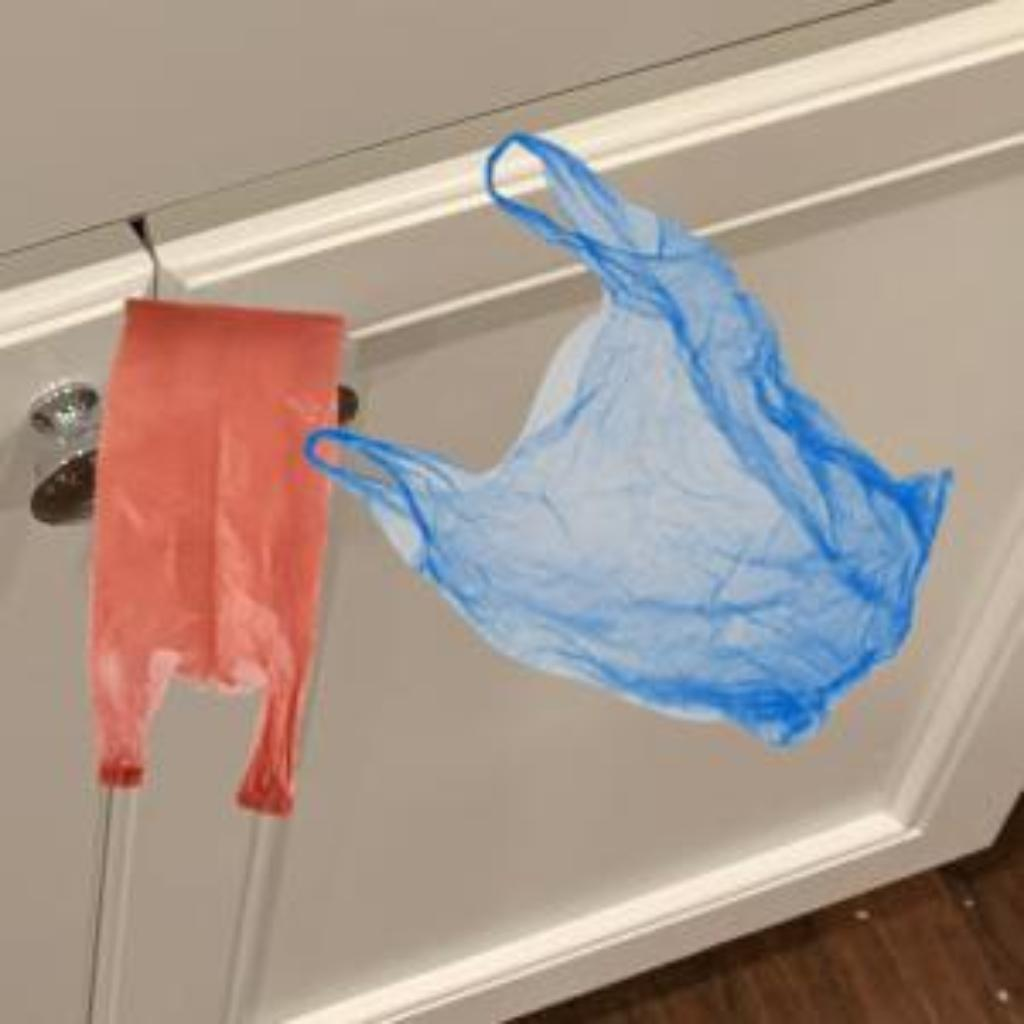garbage: (331, 113, 973, 782), (70, 241, 343, 828)
